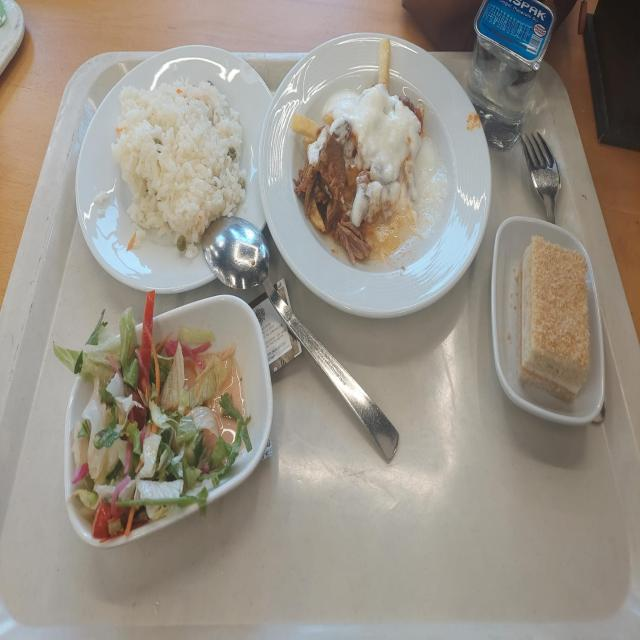ana_yemek: (256, 35, 444, 328), (75, 46, 274, 292)
yan_yemek: (53, 289, 266, 545), (491, 216, 608, 424)
